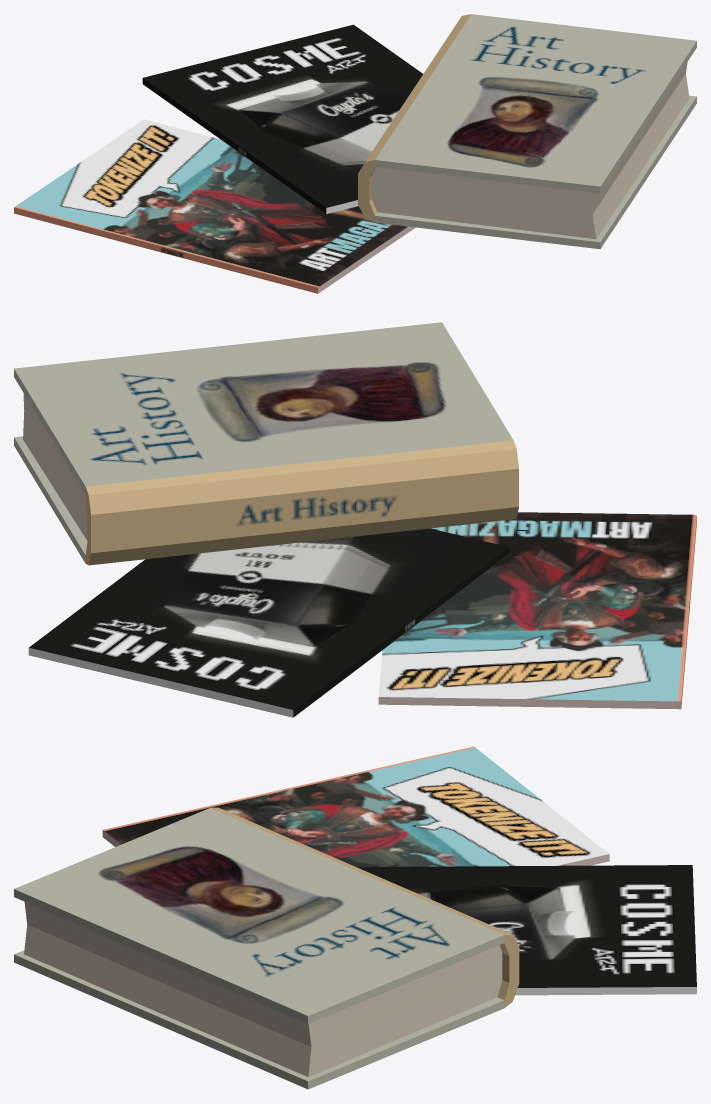
File: Books.glb
The picture shows the model from 3 angles, top to bottom: view 1: azimuth 30°, elevation 25°; view 2: azimuth 150°, elevation 25°; view 3: azimuth 270°, elevation 25°; orthographic projection. The views are drawn at different scales.
Visible parts, largest first — view 1: book, magazine01, magazine002; view 2: book, magazine002, magazine01; view 3: book, magazine01, magazine002.
Boxes of the visible parts, x1=… form: book: x1=358, y1=14, x2=696, y2=249; magazine01: x1=14, y1=119, x2=415, y2=293; magazine002: x1=142, y1=24, x2=422, y2=213; book: x1=14, y1=322, x2=518, y2=565; magazine002: x1=28, y1=528, x2=508, y2=717; magazine01: x1=378, y1=512, x2=696, y2=709; book: x1=14, y1=807, x2=519, y2=1089; magazine01: x1=102, y1=746, x2=609, y2=866; magazine002: x1=356, y1=865, x2=696, y2=995.
Size of the model in its own units: 0.6902 by 0.081 by 0.5683.
3 materials, 3 textured.
